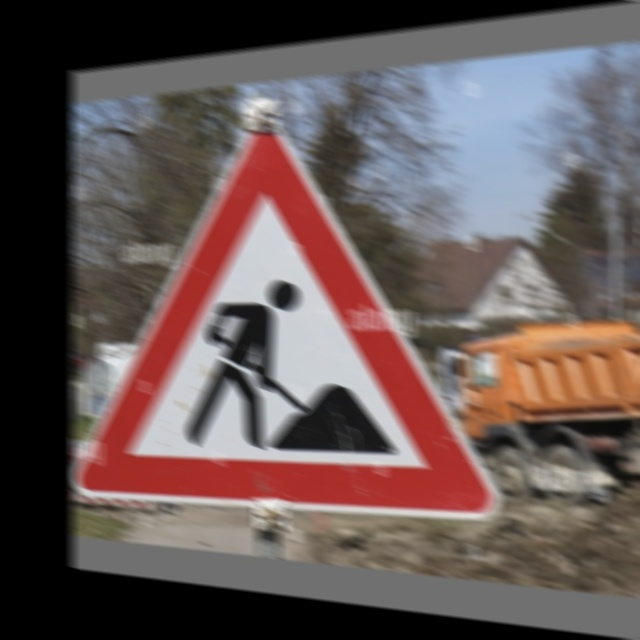Men_at_Work: (120, 120, 466, 509)
